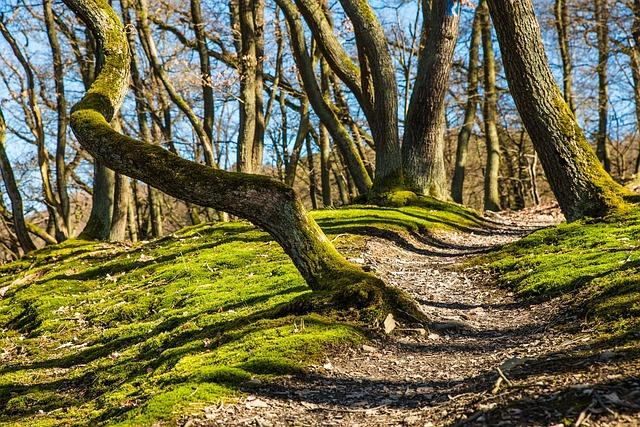Non_Gorille: (47, 16, 592, 388)
